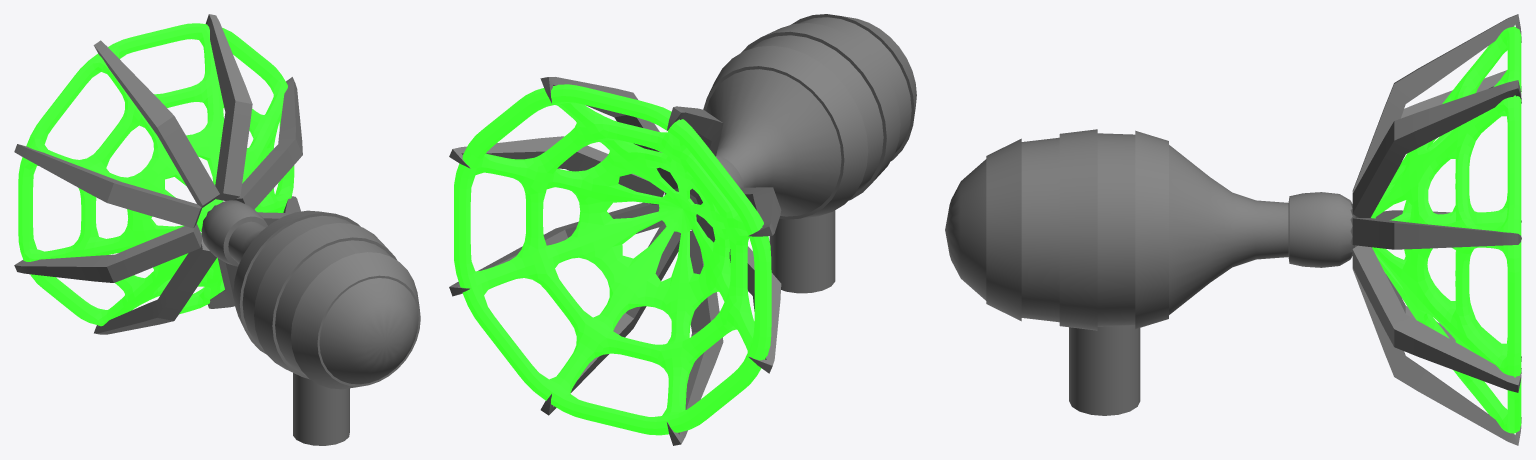
Rendered from SM_WebShooter.fbx.
The picture shows the model from 3 angles, left to right: view 1: azimuth 30°, elevation 25°; view 2: azimuth 150°, elevation 25°; view 3: azimuth 270°, elevation 25°; orthographic projection. The views are drawn at different scales.
Parts seen in each view (by area): view 1: Circle.001, Circle.002; view 2: Circle.002, Circle.001; view 3: Circle.001, Circle.002.
Part boxes in pixels (x1,y1,x2,y2): Circle.001: [14, 14, 420, 445]; Circle.002: [18, 23, 294, 326]; Circle.002: [454, 84, 771, 435]; Circle.001: [449, 14, 916, 445]; Circle.001: [945, 14, 1521, 445]; Circle.002: [1371, 26, 1521, 433].
Bounding box in the file's own units: 136 × 136 × 194.
